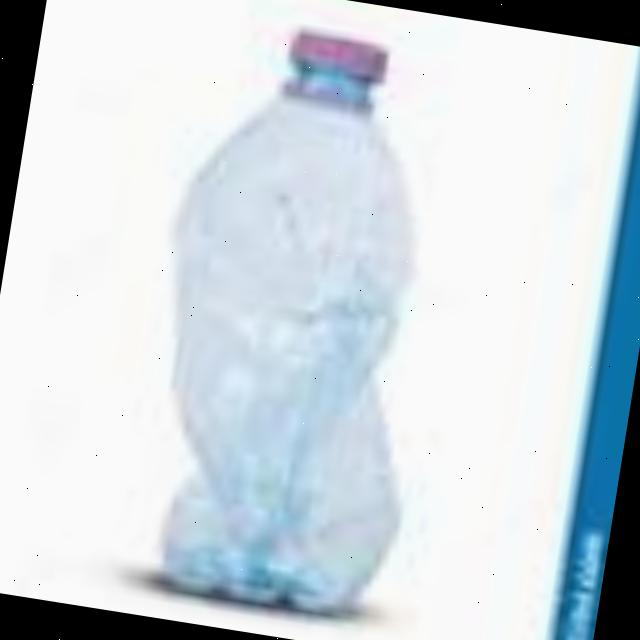trash: (106, 0, 488, 630)
